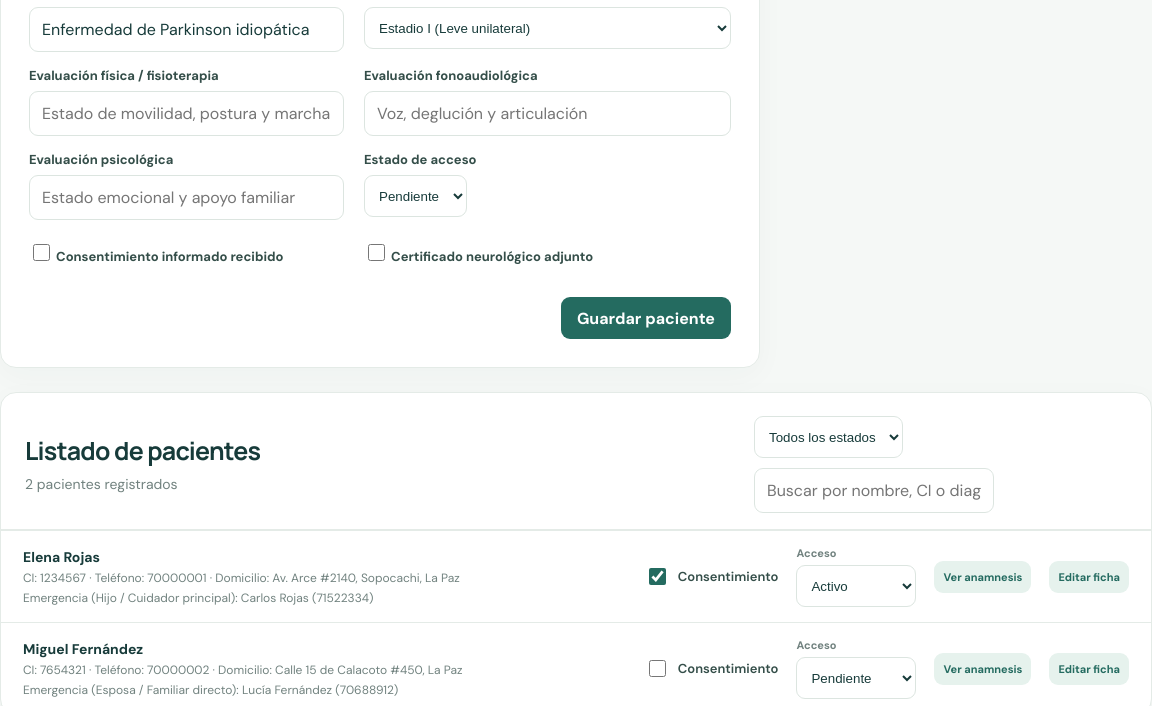
Test case: SCRUM-138: PatientsView — consentimiento y estados de acceso › oculta la anamnesis al revocar el consentimiento
The width and height of the screenshot is (1152, 706).
(page scrolled)
Click the 1st checkbox labelled "Consentimiento". click: (657, 577)
box: [649,568,666,585]
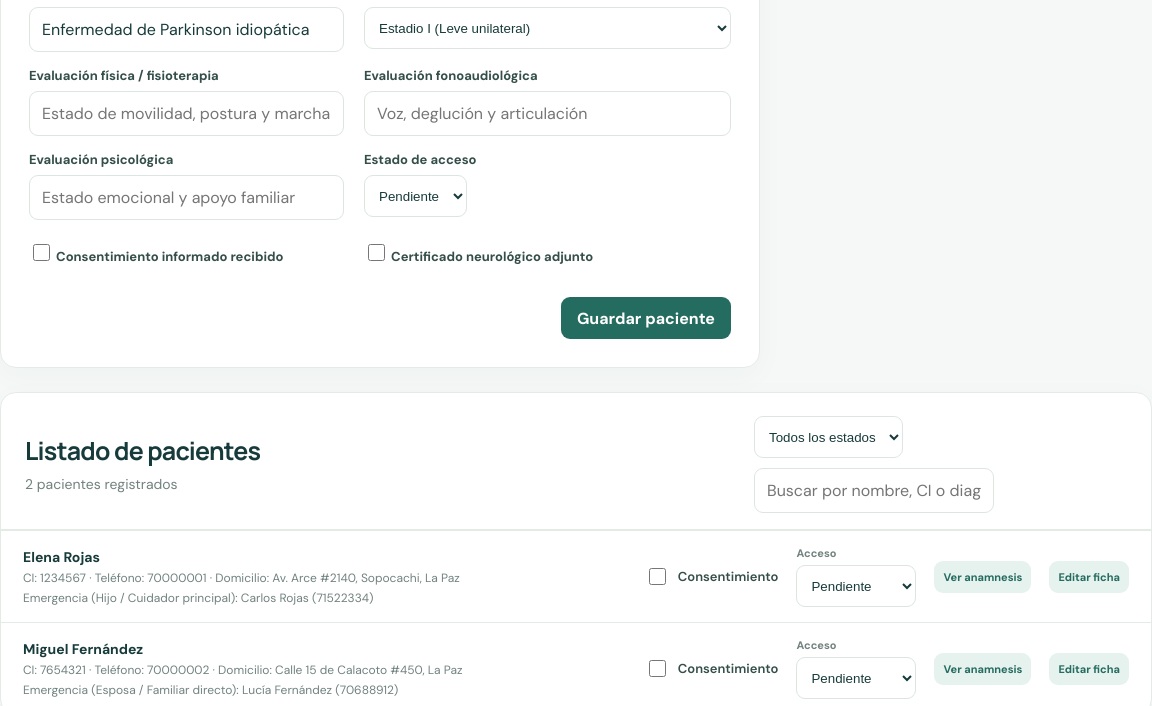
Click the button "Ver anamnesis" in the row of "Elena Rojas". click: (983, 577)
box: [934,561,1032,593]
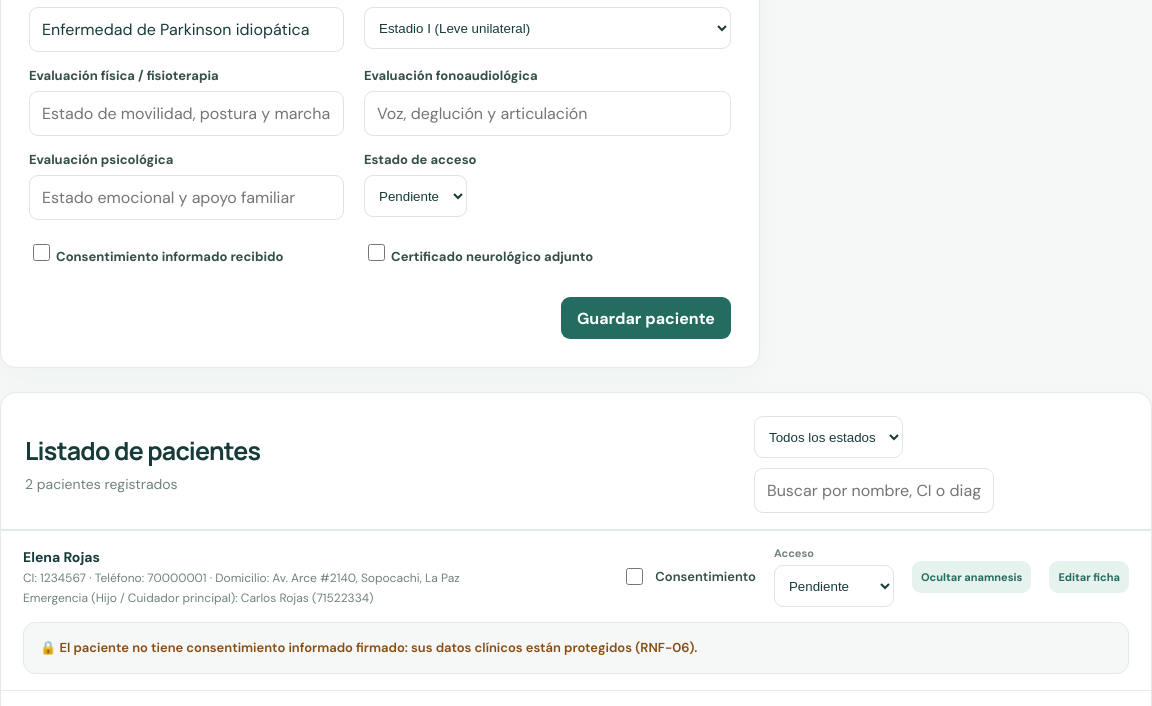
Check: the message is shown, box [40,639,697,656]
